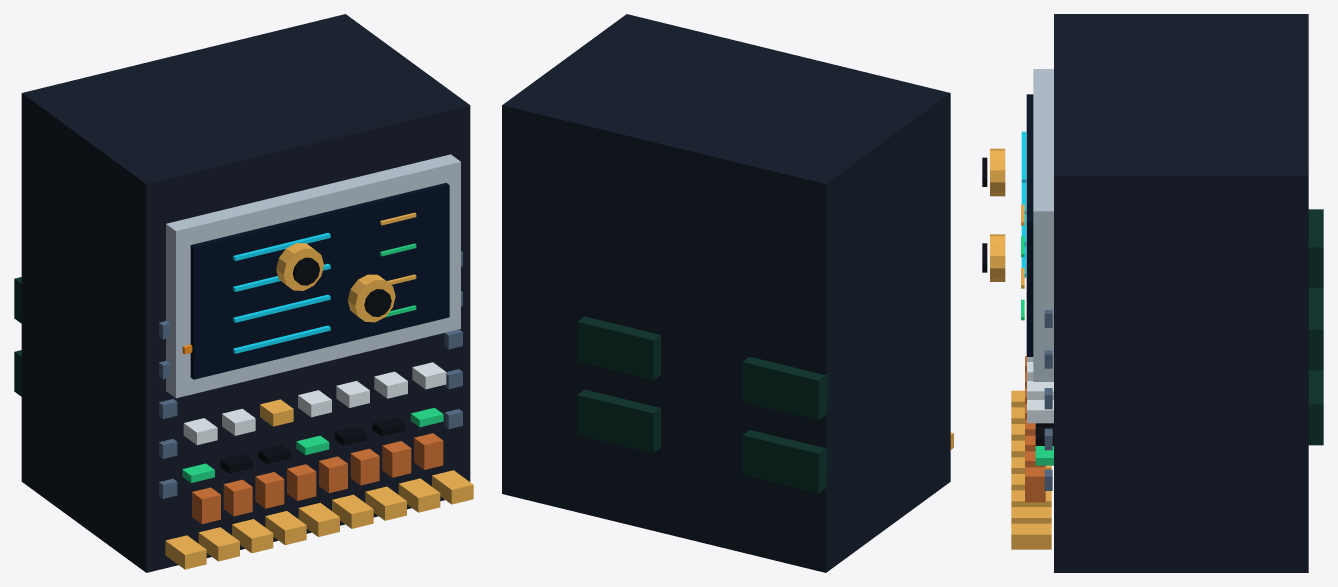
The model's file is 78_L91_NavigationSafetyInterlockStation.fbx.
The picture shows the model from 3 angles, left to right: view 1: azimuth 30°, elevation 25°; view 2: azimuth 150°, elevation 25°; view 3: azimuth 270°, elevation 25°; orthographic projection. The views are drawn at different scales.
Parts seen in each view (by area): view 1: L91_NavigationSafetyInterlockStation, L91_NavigationSafetyInterlockStation_Part_0014, L91_NavigationSafetyInterlockStation_Part_0012, L91_NavigationSafetyInterlockStation_Part_0015, L91_NavigationSafetyInterlockStation_Part_0013; view 2: L91_NavigationSafetyInterlockStation; view 3: L91_NavigationSafetyInterlockStation, L91_NavigationSafetyInterlockStation_Part_0012, L91_NavigationSafetyInterlockStation_Part_0014.
Boxes of the visible parts, x1,y1,x2,y2 form: L91_NavigationSafetyInterlockStation: [14, 14, 473, 572]; L91_NavigationSafetyInterlockStation_Part_0014: [347, 274, 395, 322]; L91_NavigationSafetyInterlockStation_Part_0012: [276, 243, 323, 290]; L91_NavigationSafetyInterlockStation_Part_0015: [364, 289, 391, 316]; L91_NavigationSafetyInterlockStation_Part_0013: [292, 257, 319, 285]; L91_NavigationSafetyInterlockStation: [502, 14, 953, 572]; L91_NavigationSafetyInterlockStation: [1011, 14, 1323, 572]; L91_NavigationSafetyInterlockStation_Part_0012: [990, 148, 1005, 196]; L91_NavigationSafetyInterlockStation_Part_0014: [990, 234, 1005, 281].
Size of the model in its own units: 104 by 119 by 92.96.
